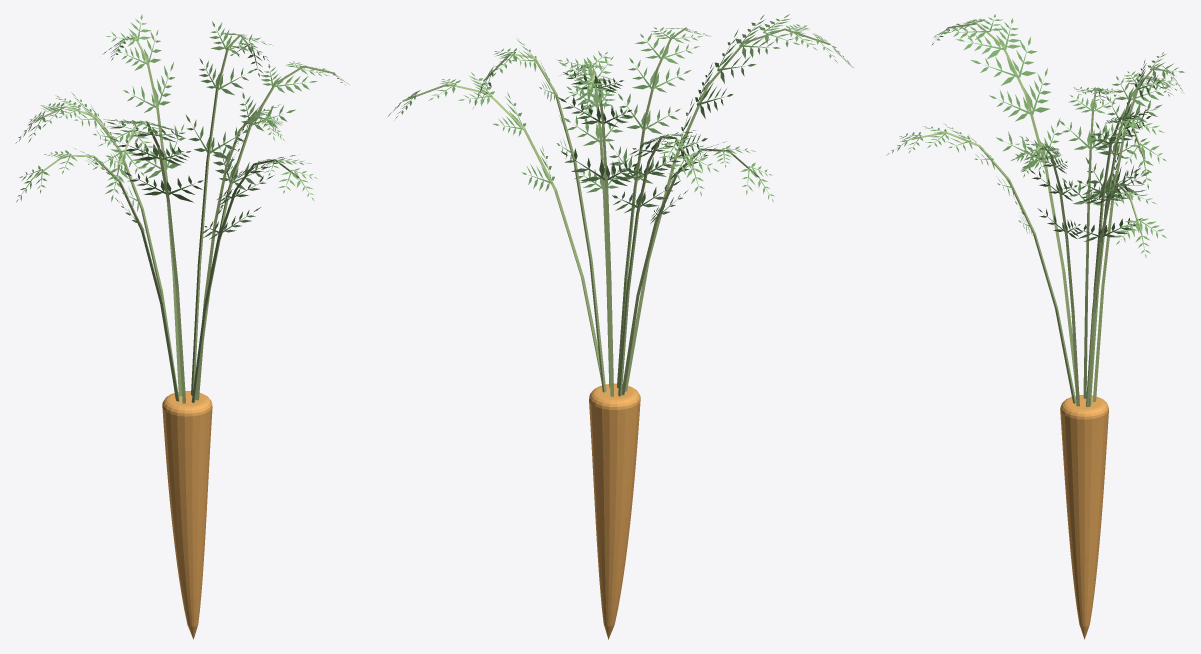
File: carrot_harvest_v00.glb
3 renders of one model, left to right at view 1: azimuth 30°, elevation 25°; view 2: azimuth 150°, elevation 25°; view 3: azimuth 270°, elevation 25°, orthographic. The views are drawn at different scales.
Visible parts, largest first — view 1: leaves, root, petioles; view 2: leaves, petioles, root; view 3: leaves, root, petioles.
Part boxes in pixels (left/top/right/bottom): leaves: left=15, top=14, right=349, bottom=239; root: left=162, top=391, right=212, bottom=639; petioles: left=32, top=34, right=334, bottom=403; leaves: left=388, top=14, right=853, bottom=223; petioles: left=402, top=27, right=830, bottom=396; root: left=589, top=383, right=640, bottom=639; leaves: left=886, top=14, right=1184, bottom=257; root: left=1060, top=394, right=1108, bottom=639; petioles: left=909, top=22, right=1171, bottom=407.
Size of the model in its own units: 0.2942 by 0.4664 by 0.2237.
